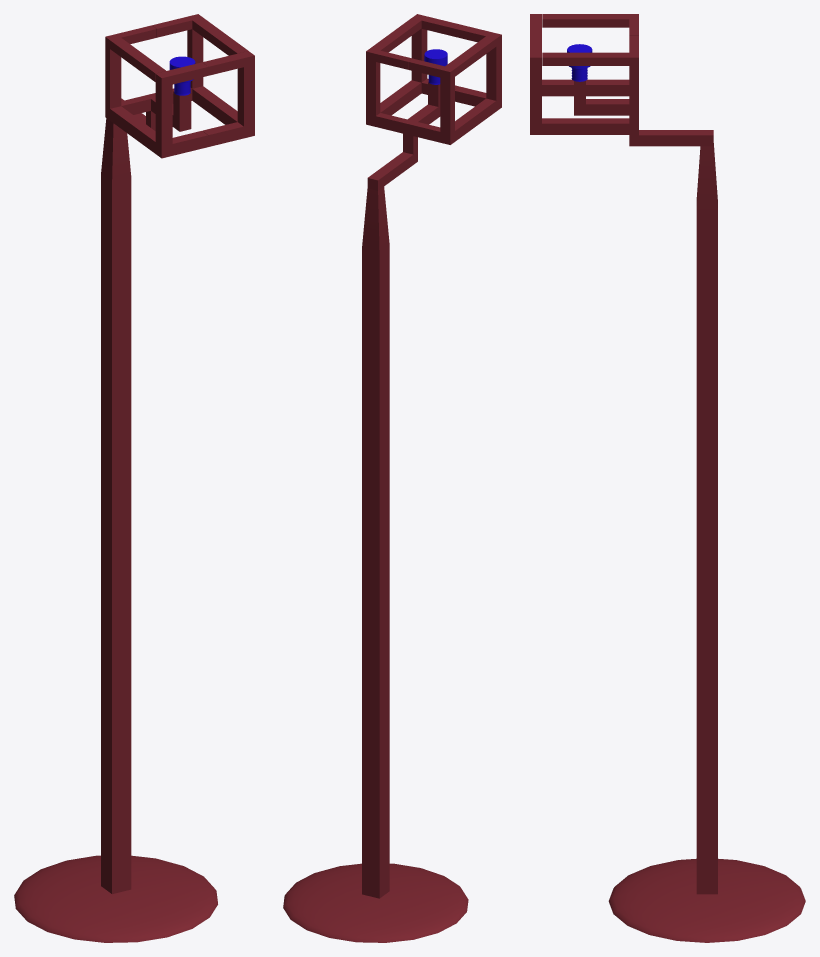
File: Lamp_Retex.obj
3 renders of one model, left to right at view 1: azimuth 30°, elevation 25°; view 2: azimuth 150°, elevation 25°; view 3: azimuth 270°, elevation 25°, orthographic. The views are drawn at different scales.
Parts seen in each view (by area): view 1: LampStand1; view 2: LampStand1; view 3: LampStand1.
Part boxes in pixels (x1=…): LampStand1: x1=14, y1=14, x2=254, y2=942; LampStand1: x1=283, y1=14, x2=501, y2=942; LampStand1: x1=530, y1=14, x2=805, y2=942.
Bounding box in the file's own units: 2 × 9.68 × 2.8.
